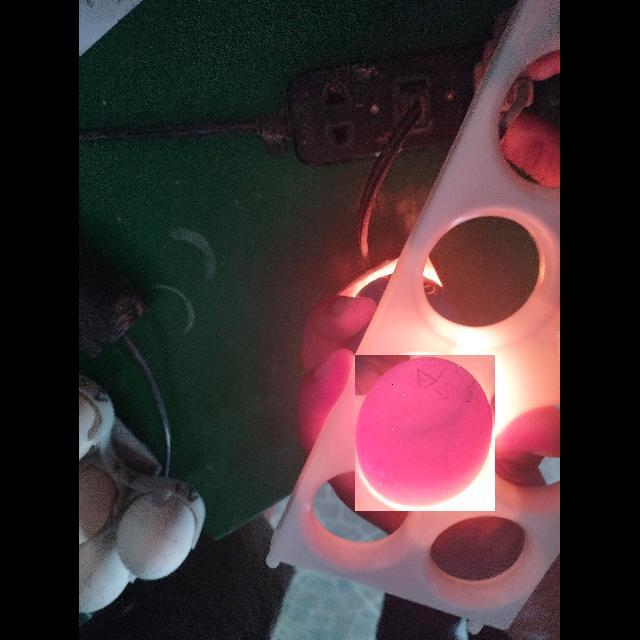Infertile: (355, 355, 495, 511)
